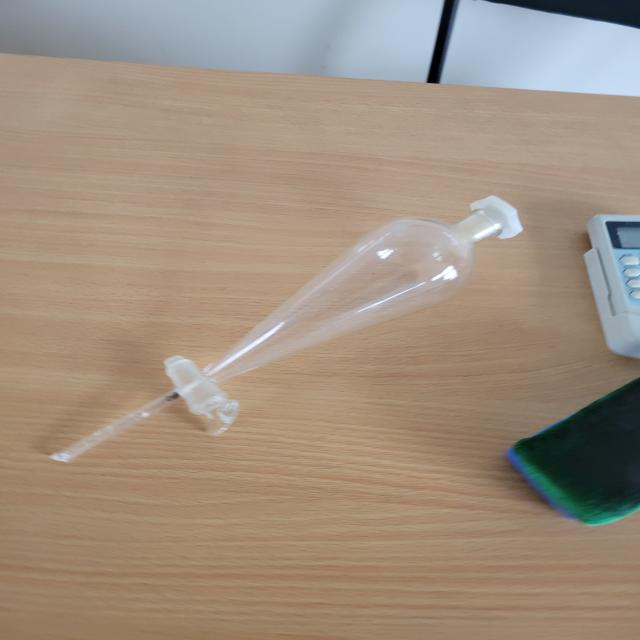Separating_Funnel: (32, 183, 521, 489)
